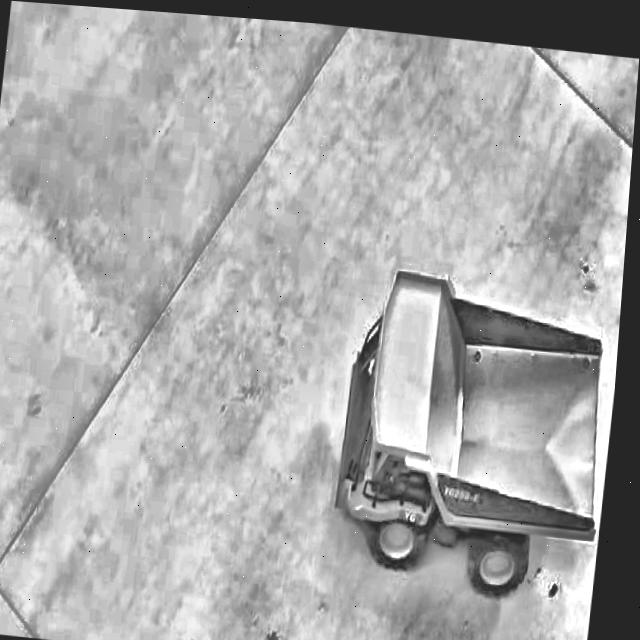dump_truck: (332, 257, 622, 597)
